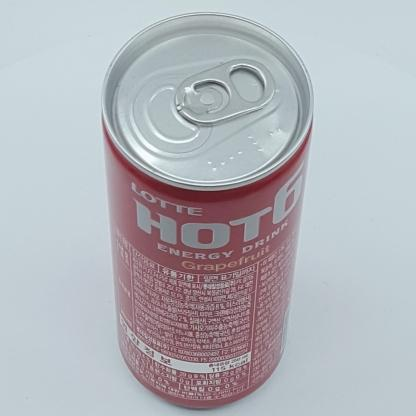-------250ML: (101, 12, 314, 408)
